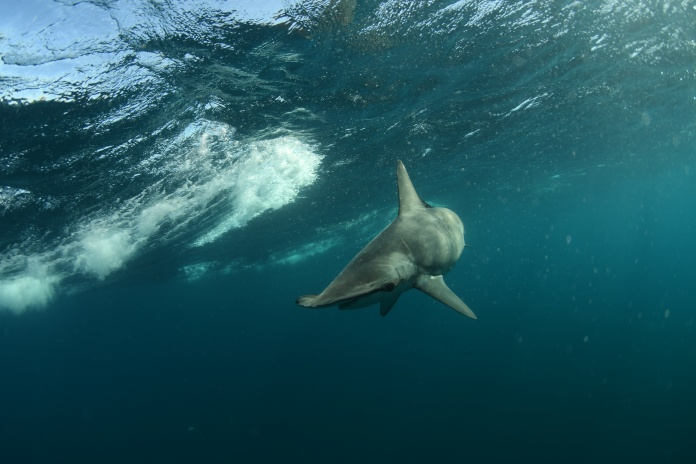Hammer: (266, 153, 496, 349)
